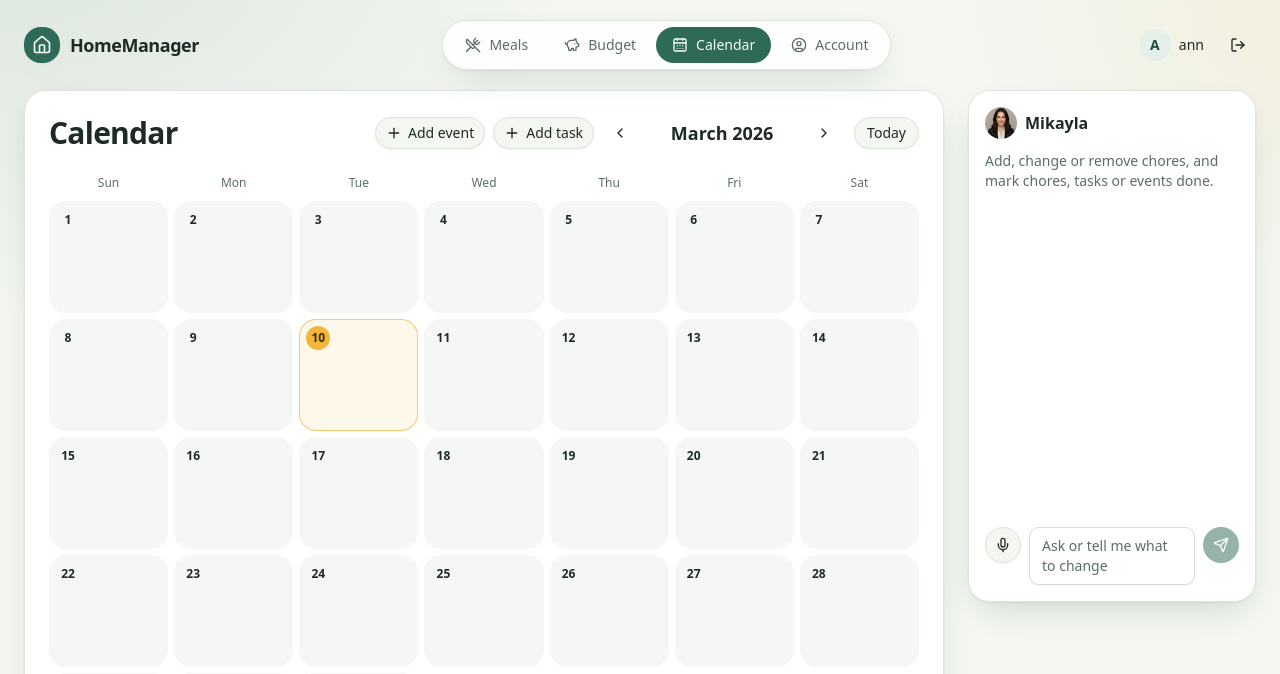
AssistantPanel › keeps a newer draft when an earlier message fails
Type "First" into the text box named "Message Mikayla".
click(1112, 556); type("First")  # box [1029,527,1195,585]
Then press Enter
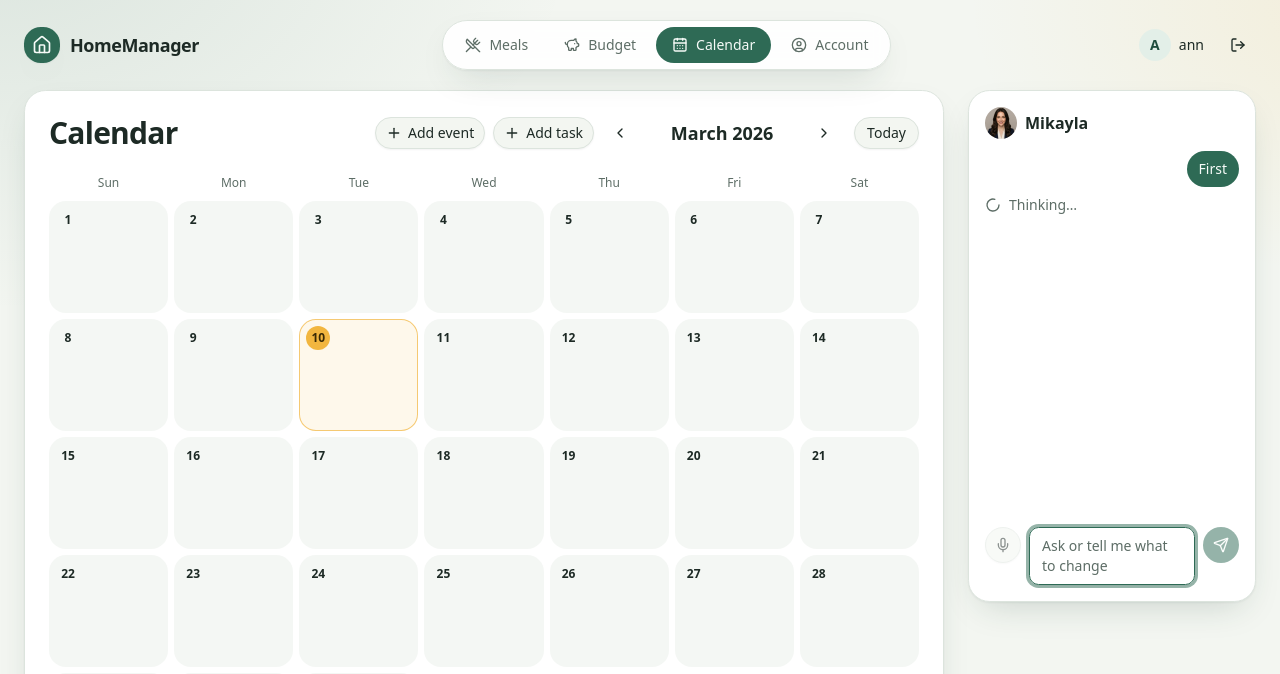
Type "Second" into the text box named "Message Mikayla".
click(1112, 556); type("Second")  # box [1029,527,1195,585]
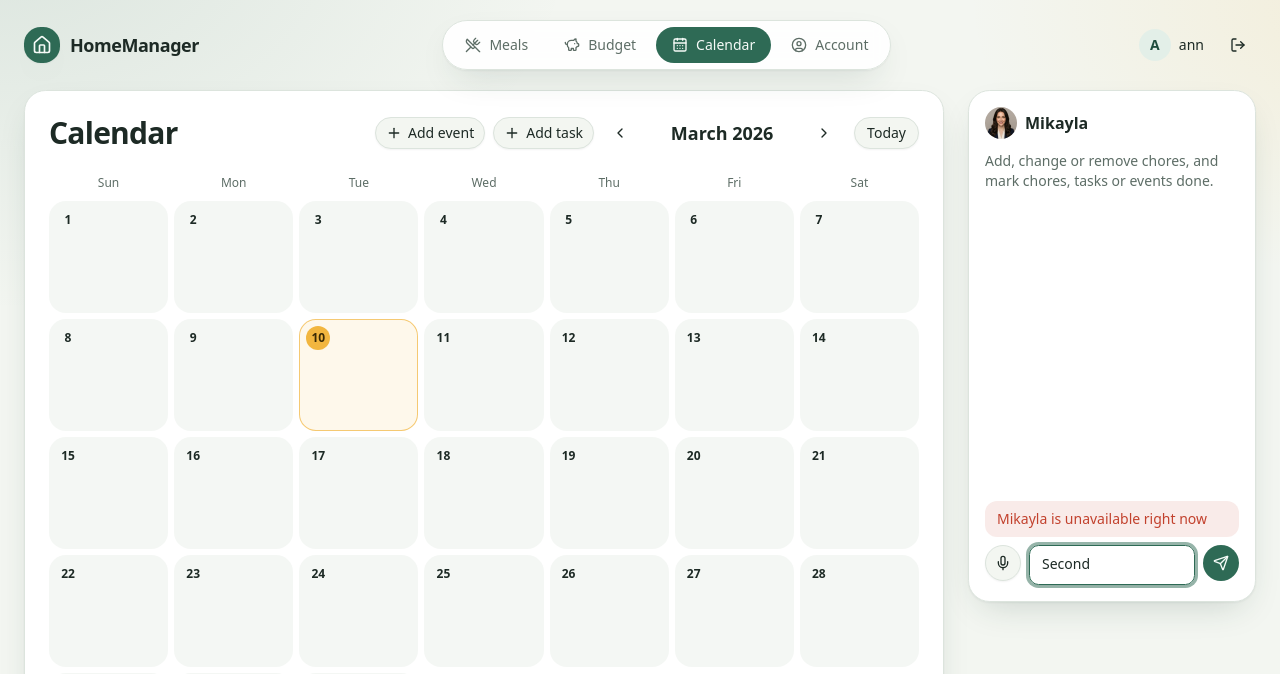
Now the message "Mikayla is unavailable right now" is shown, box [985,501,1239,537]
